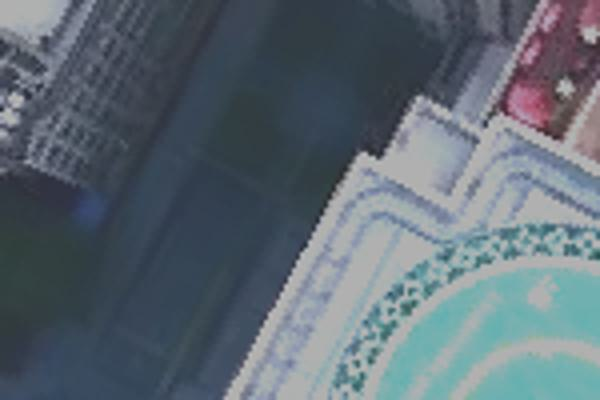Apron: (459, 338, 600, 400)
